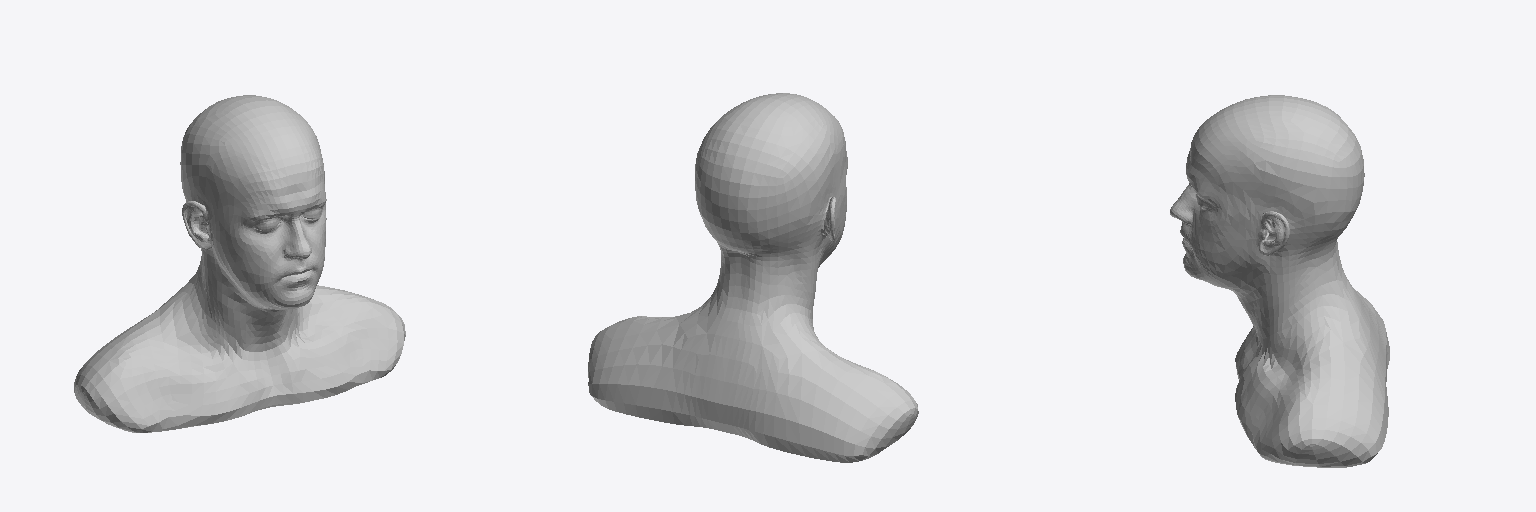
Rendered from highreshead.obj.
3 views of the same model, side by side, from view 1: azimuth 30°, elevation 25°; view 2: azimuth 150°, elevation 25°; view 3: azimuth 270°, elevation 25° (orthographic).
Parts seen in each view (by area): view 1: head; view 2: head; view 3: head.
Boxes of the visible parts, x1,y1,x2,y2 form: head: [74, 95, 405, 432]; head: [588, 93, 918, 462]; head: [1170, 95, 1389, 467].
Size of the model in its own units: 0.4533 by 0.4211 by 0.2746.